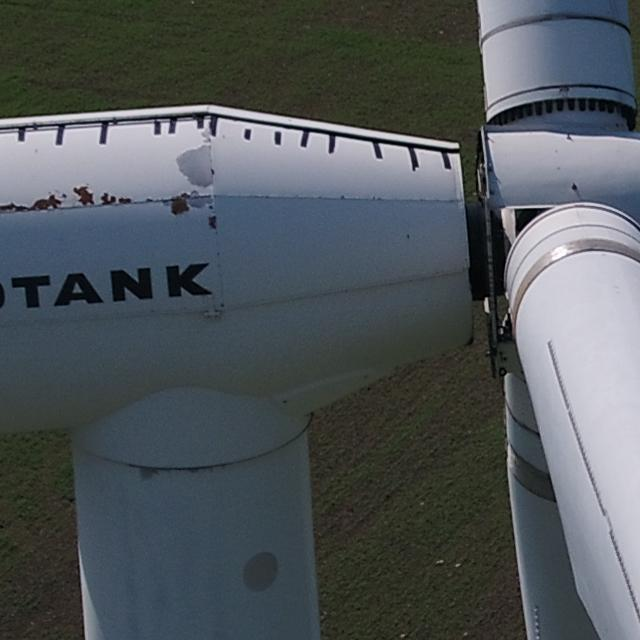damage: (544, 335, 579, 423), (586, 481, 623, 542), (567, 418, 599, 485), (173, 142, 217, 188), (609, 538, 634, 603), (1, 188, 61, 215), (96, 189, 134, 209), (69, 180, 95, 209), (168, 192, 191, 217), (532, 605, 546, 631), (206, 211, 218, 230)
